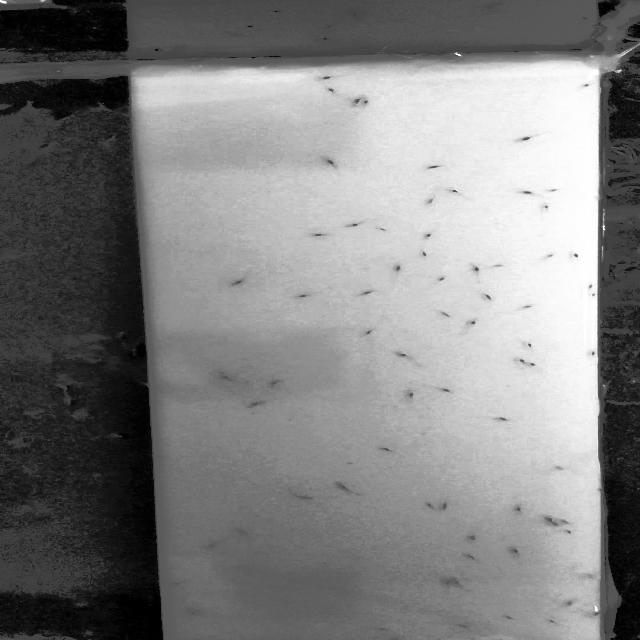shrimp: (227, 275, 261, 290), (509, 131, 541, 145), (485, 413, 519, 426), (464, 262, 488, 279), (507, 546, 534, 560), (416, 163, 446, 173), (290, 490, 313, 503), (337, 218, 364, 229), (372, 444, 400, 454), (319, 156, 340, 169), (387, 265, 414, 275), (214, 371, 236, 383), (407, 248, 432, 258), (294, 291, 316, 302), (518, 302, 540, 313), (481, 292, 499, 305), (416, 232, 438, 242), (315, 72, 342, 80), (516, 189, 540, 198), (369, 625, 395, 633), (446, 186, 466, 196), (333, 482, 353, 492), (521, 340, 541, 350), (432, 274, 452, 284), (460, 532, 480, 542), (510, 503, 528, 514), (396, 392, 420, 400), (469, 317, 483, 330), (202, 542, 220, 552), (305, 232, 327, 240), (513, 356, 530, 366), (545, 515, 559, 527), (322, 86, 340, 95), (394, 352, 414, 360), (438, 385, 454, 395), (460, 554, 480, 562), (440, 502, 453, 514), (568, 250, 582, 261), (451, 577, 465, 588), (357, 290, 379, 297), (166, 579, 187, 586), (232, 528, 250, 536), (541, 205, 565, 211), (266, 378, 280, 388), (419, 500, 433, 510), (184, 608, 199, 617), (246, 402, 265, 409), (353, 96, 365, 106), (442, 577, 451, 588), (528, 361, 540, 369), (361, 328, 376, 334)
